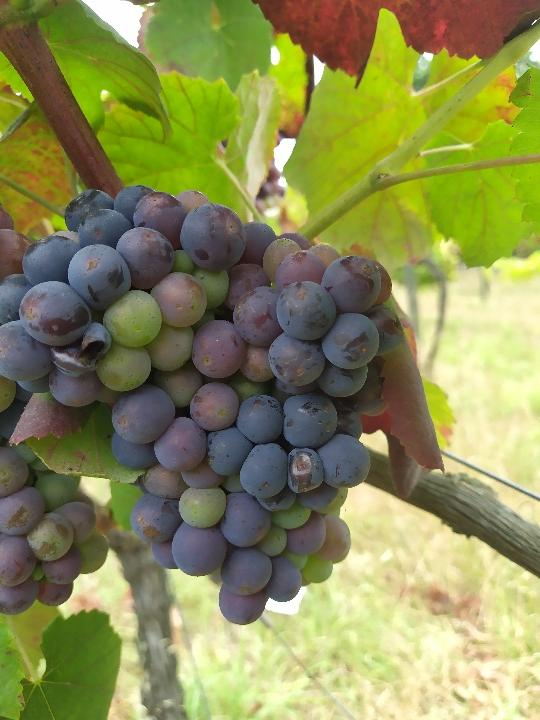grape: (0, 182, 410, 629)
